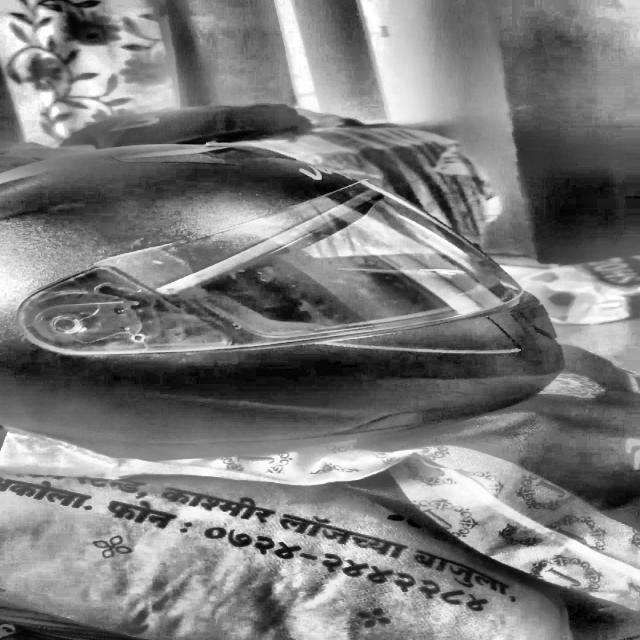Helmet: (0, 136, 581, 476)
